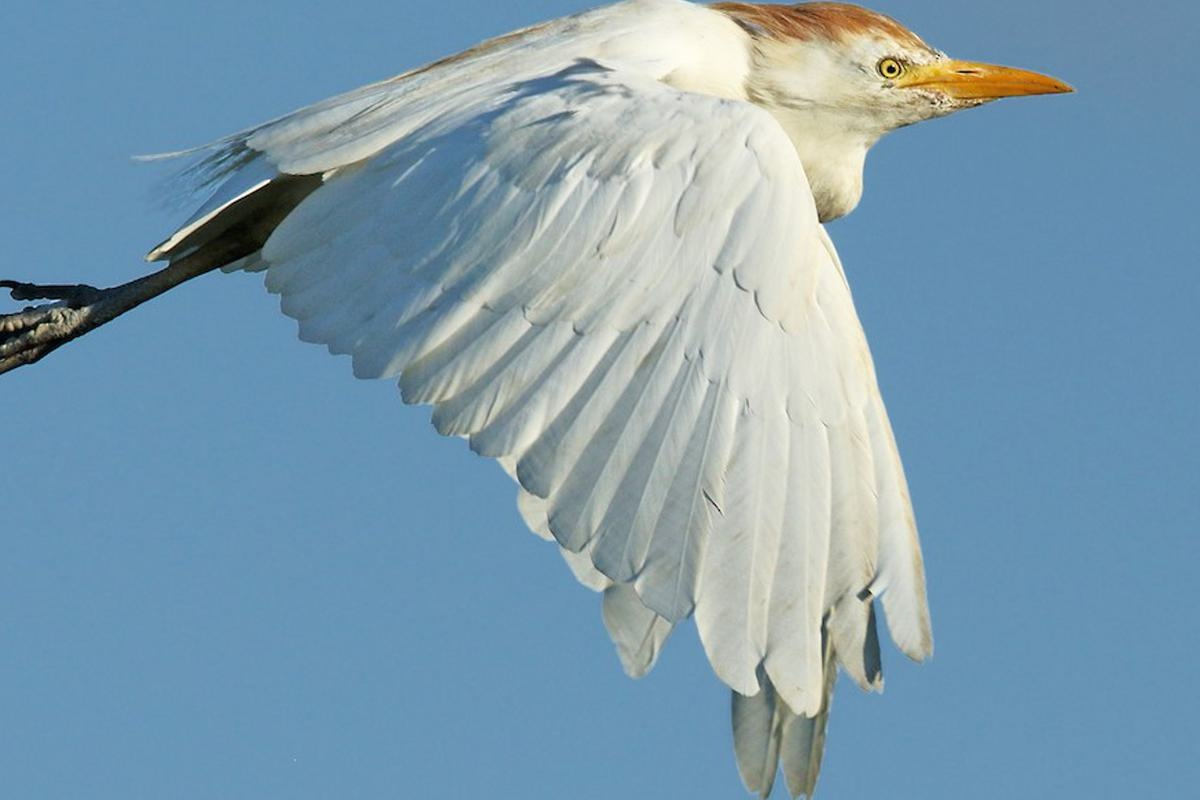egret: (1, 4, 1098, 771)
